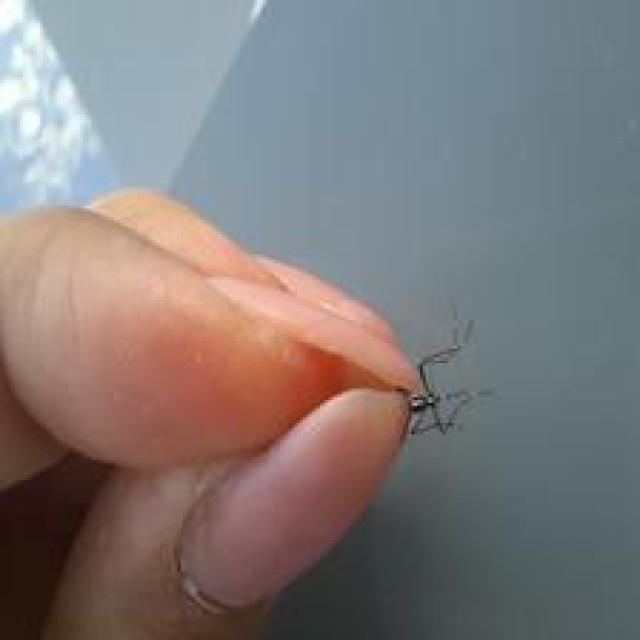Aedes albopictus: (401, 304, 496, 439)
